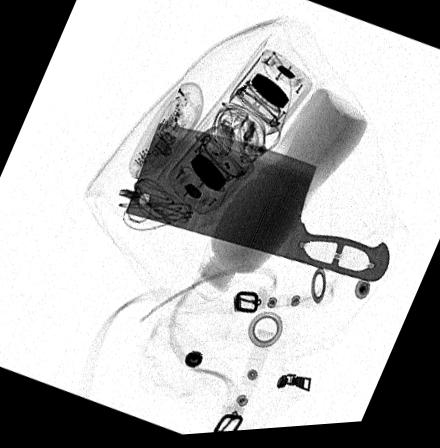Knife: (125, 122, 392, 289)
